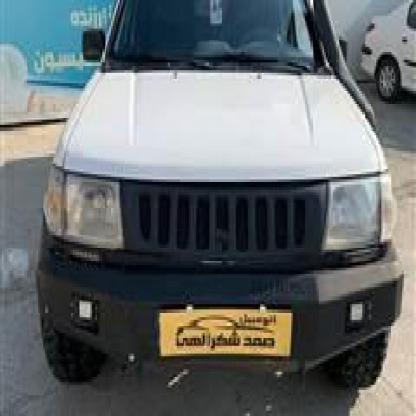Car: (49, 0, 402, 398), (357, 0, 416, 109)
